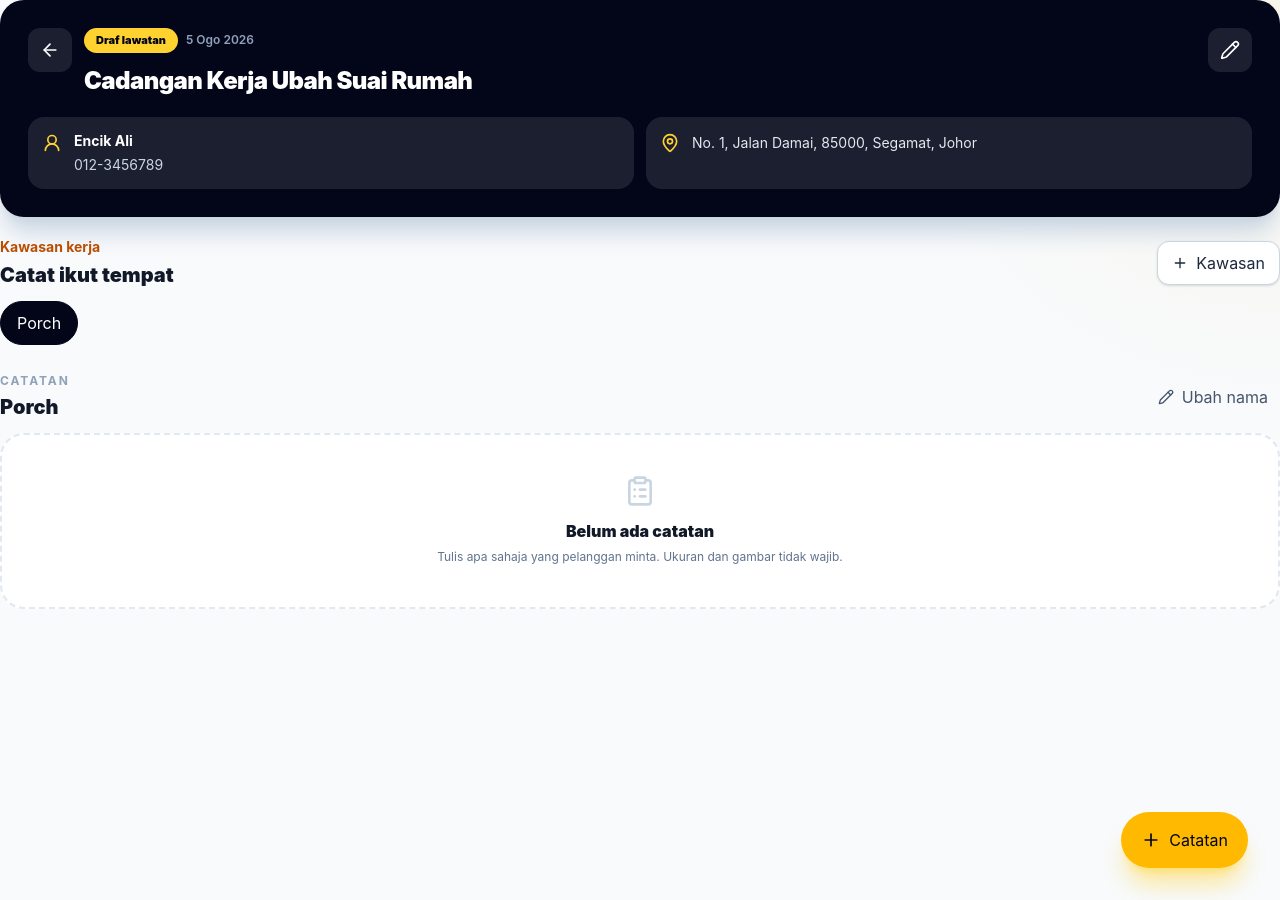
Test: VisitWorkspace › keeps the site workflow free-text, optional and price-free
The image size is (1280, 900).
Click the button "Catatan" at (1185, 840), box 1121,812 -> 1248,868
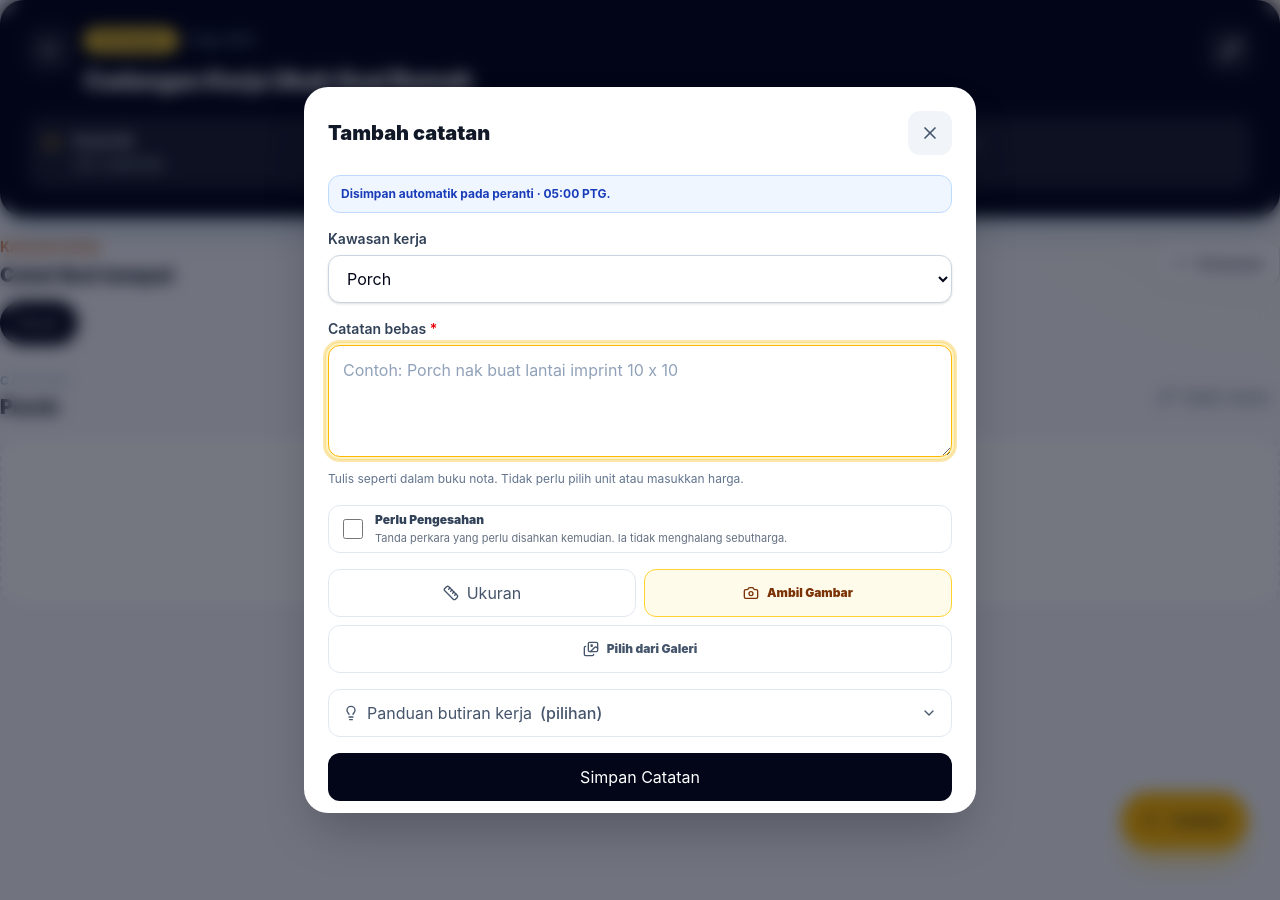
Expected: the text box with placeholder "Contoh: Porch nak buat lantai imprint 10 x 10" is shown, 328,345 -> 952,457
Expected: the text "Tidak perlu pilih unit atau masukkan harga" is shown, 328,471 -> 744,486
Click the button "Panduan butiran kerja (pilihan)" at (450, 713), box 328,689 -> 952,737
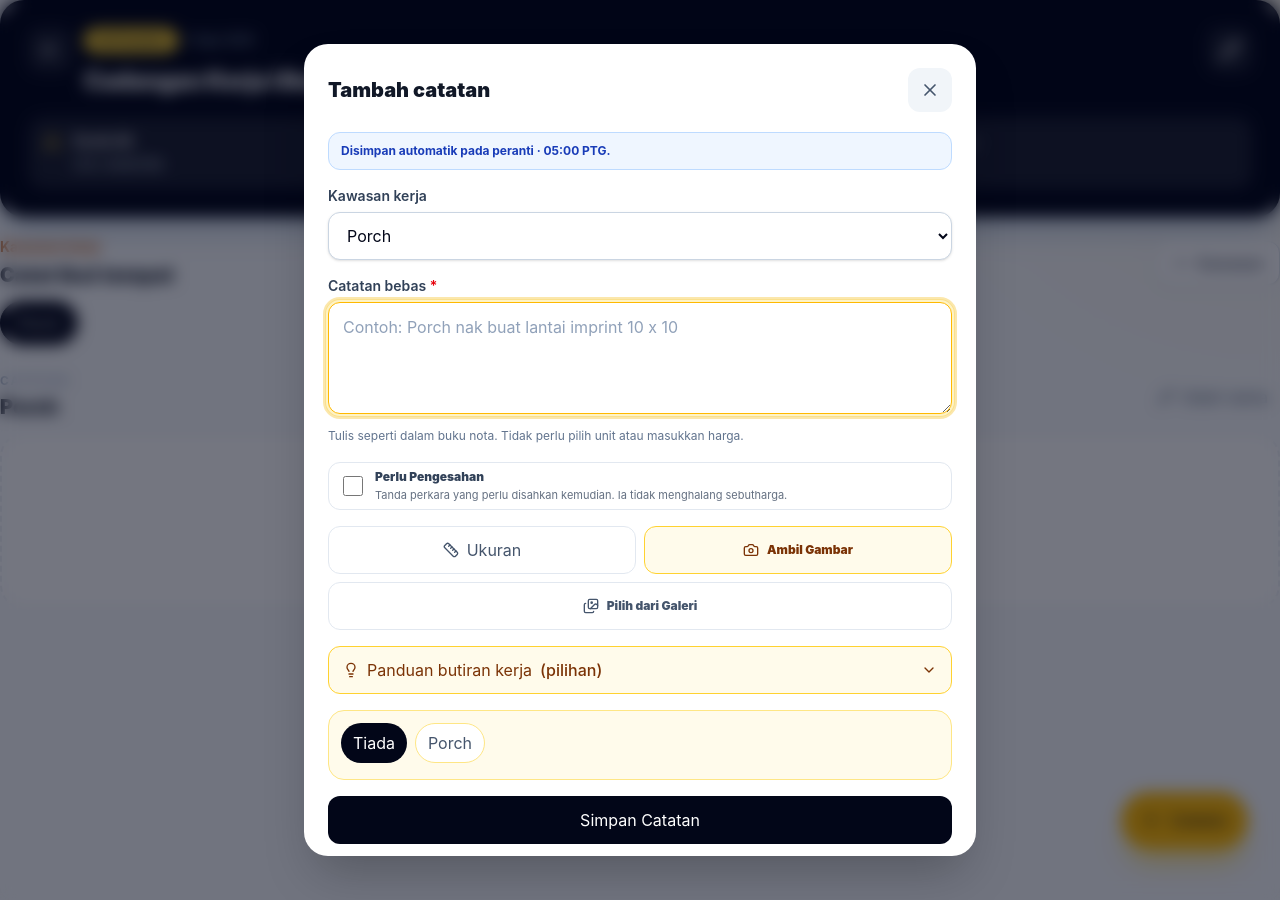
Click the button "Porch" at (450, 743), box 415,723 -> 485,763
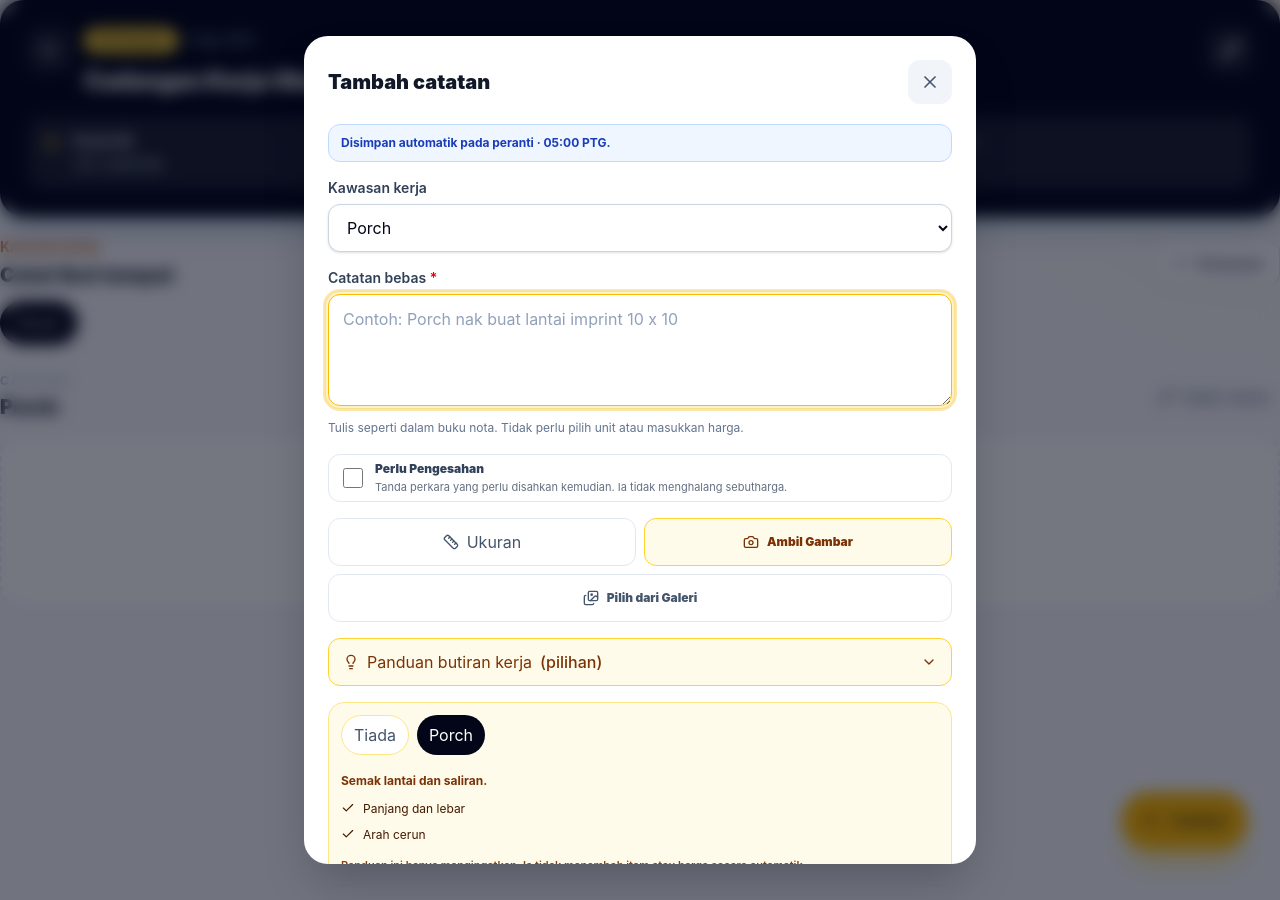
Expected: the list item "Panjang dan lebar" is shown, 341,801 -> 465,816
